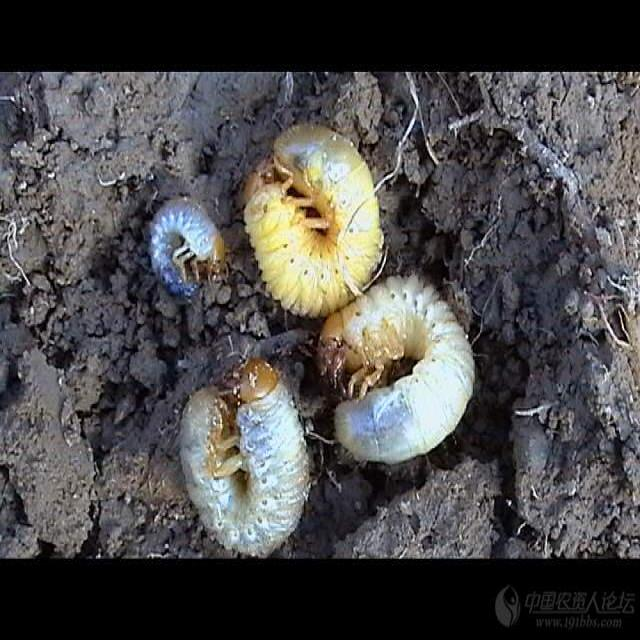Grub-Adult-: (234, 102, 390, 323), (315, 268, 474, 467), (175, 347, 320, 562), (148, 192, 224, 302)
